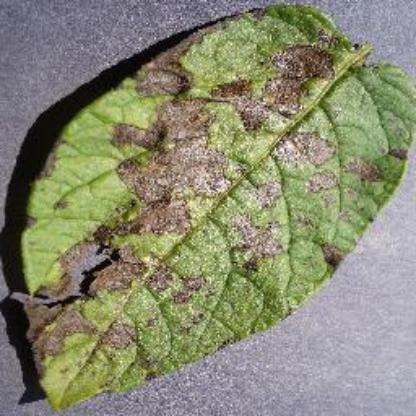Early-Blight: (19, 6, 416, 410)
